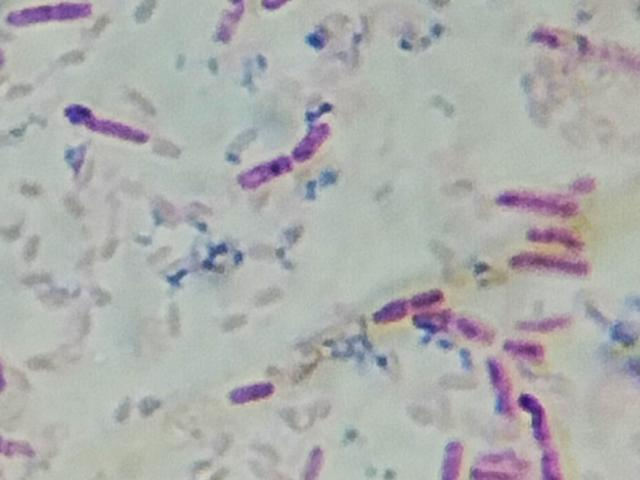E. coli: (532, 20, 639, 70), (71, 96, 156, 145), (522, 390, 557, 480), (493, 183, 576, 219), (232, 142, 286, 190), (8, 0, 94, 30), (370, 289, 455, 318), (515, 249, 593, 278), (219, 370, 272, 408), (212, 0, 249, 53), (528, 220, 593, 250), (291, 116, 336, 159), (420, 308, 494, 333), (488, 356, 516, 421), (291, 435, 327, 479), (0, 426, 41, 463), (519, 307, 569, 333), (476, 449, 517, 480), (435, 437, 463, 480), (505, 332, 538, 363)
